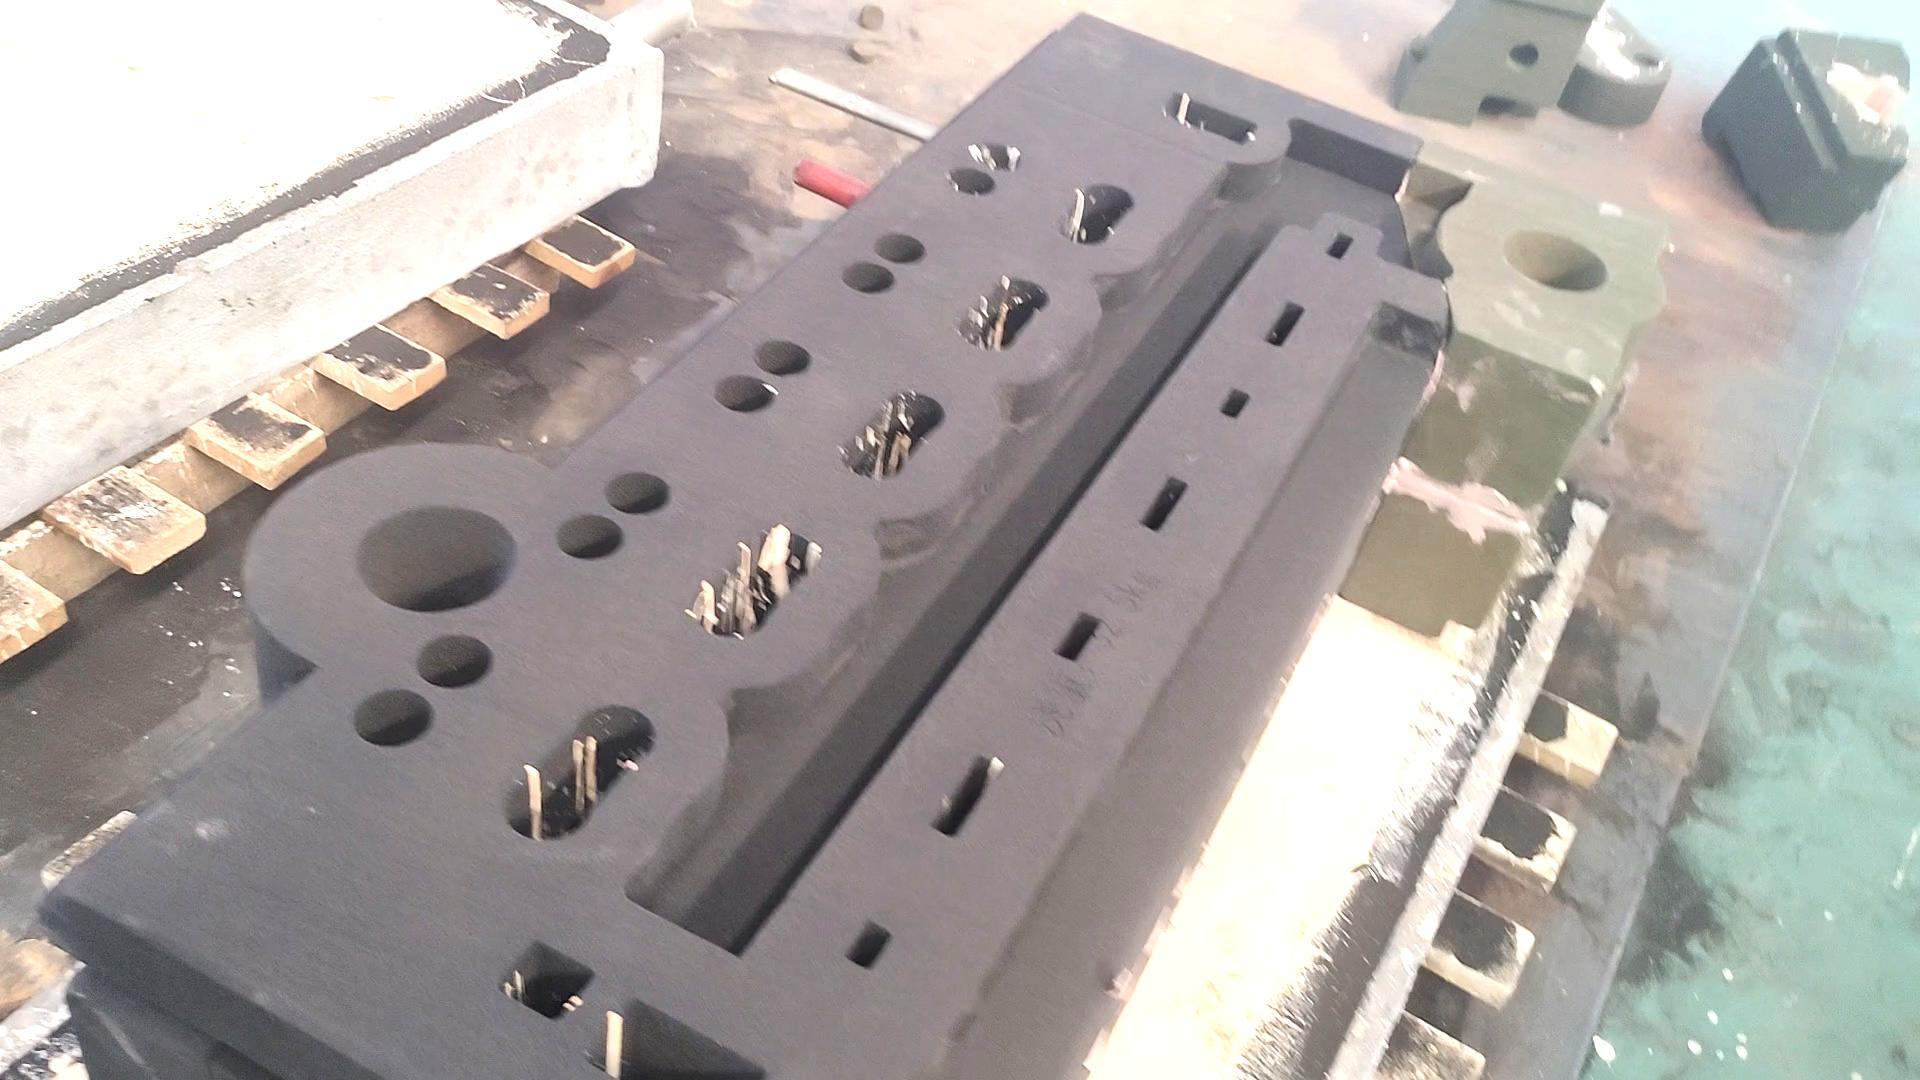pouring hole: (353, 506, 520, 611), (1501, 225, 1609, 293)
